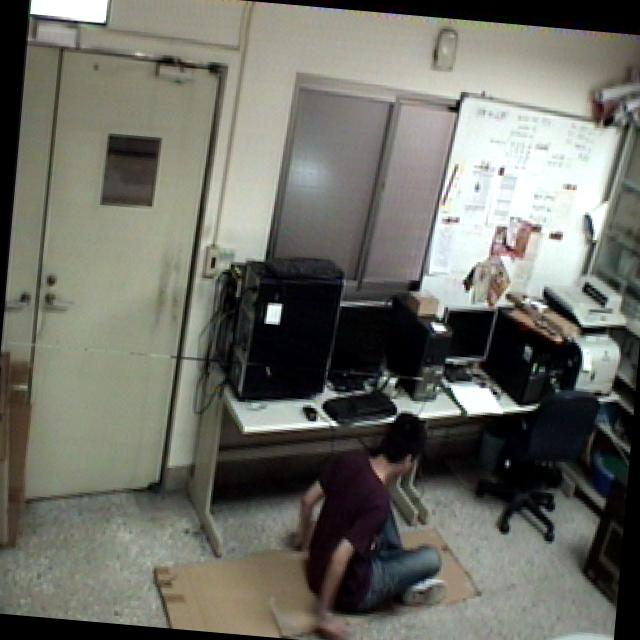sit: (274, 392, 463, 640)
